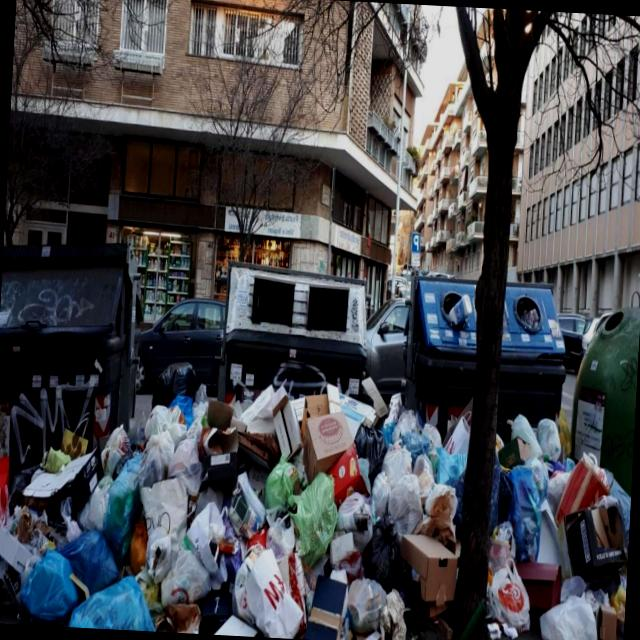garbage: (0, 365, 636, 640)
